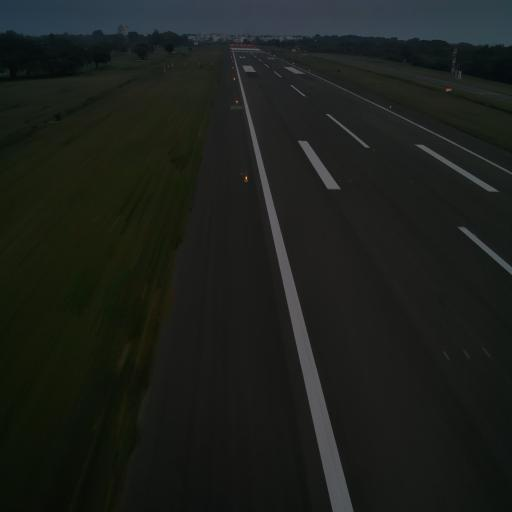off: (441, 346, 452, 368), (463, 346, 472, 364), (481, 343, 491, 359), (346, 176, 352, 186), (409, 176, 415, 186), (338, 176, 342, 184)
on: (243, 174, 249, 186), (388, 102, 392, 112)
